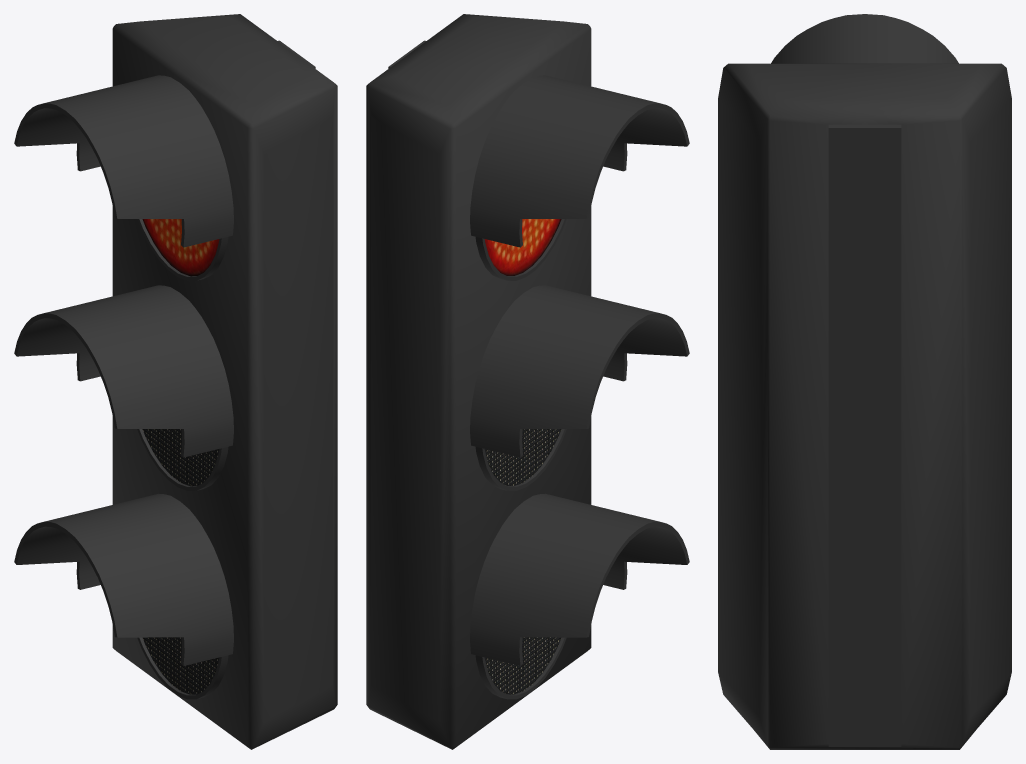
Rendered from 竖排全方位灯_RedLight.fbx.
3 renders of one model, left to right at view 1: azimuth 30°, elevation 25°; view 2: azimuth 150°, elevation 25°; view 3: azimuth 270°, elevation 25°, orthographic.
Parts seen in each view (by area): view 1: 竖排全方位灯_RedLight; view 2: 竖排全方位灯_RedLight; view 3: 竖排全方位灯_RedLight.
Boxes of the visible parts, x1,y1,x2,y2 form: 竖排全方位灯_RedLight: (14,14,337,749); 竖排全方位灯_RedLight: (366,14,689,749); 竖排全方位灯_RedLight: (718,14,1011,749).
Size of the model in its own units: 0.6 by 1.58 by 0.65.
Materials: 3 (2 with a texture image).
